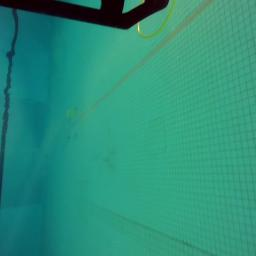Side: (0, 1, 169, 29)
